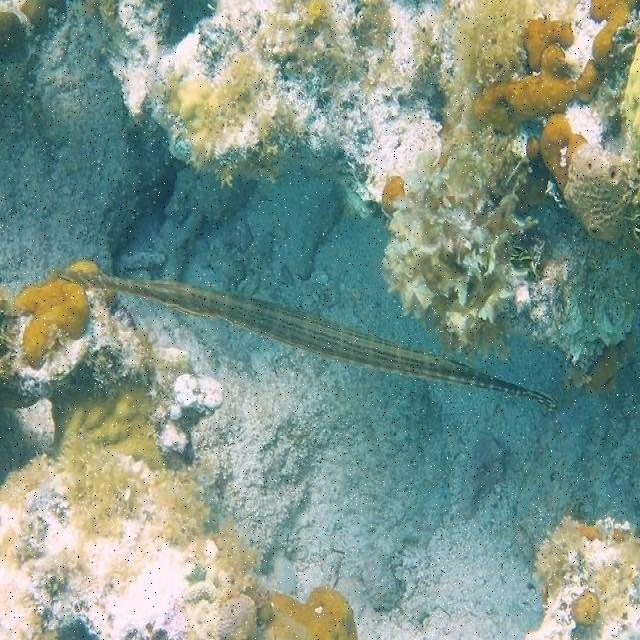fish: (52, 269, 558, 410)
reefs: (103, 0, 639, 388), (0, 276, 357, 639), (525, 514, 639, 639)
